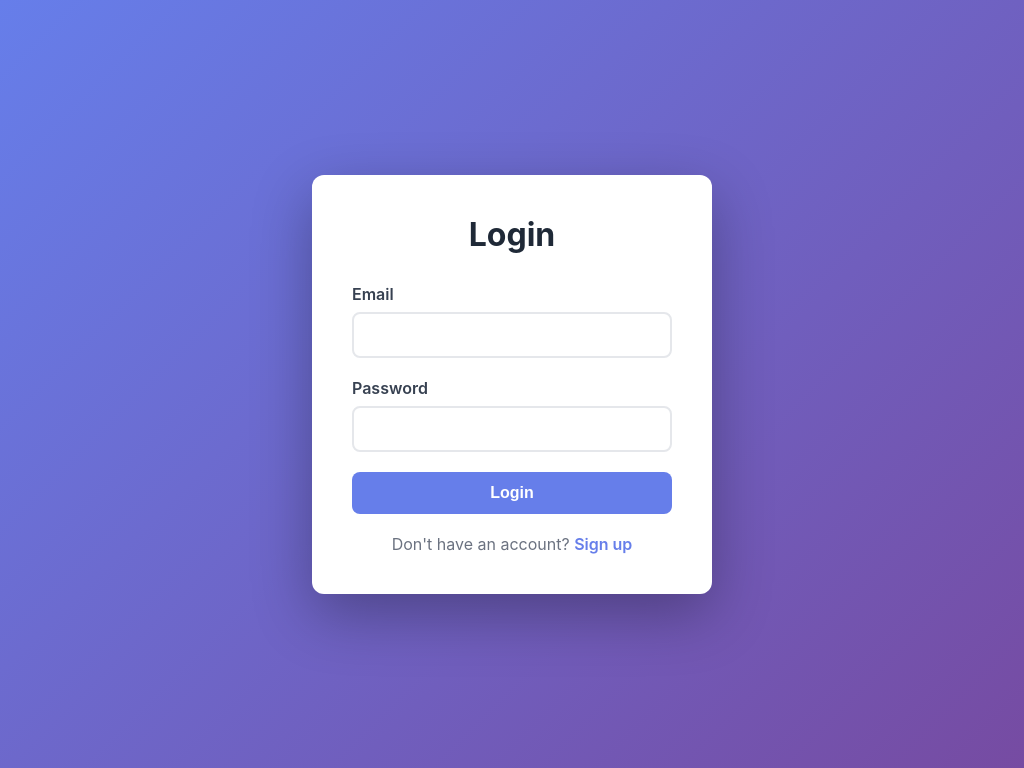
it: Login Component › displays error message on failed login
The image size is (1024, 768).
Type "test@example.com" into the field.
click(512, 334); type("test@example.com")  # box [352,312,672,358]
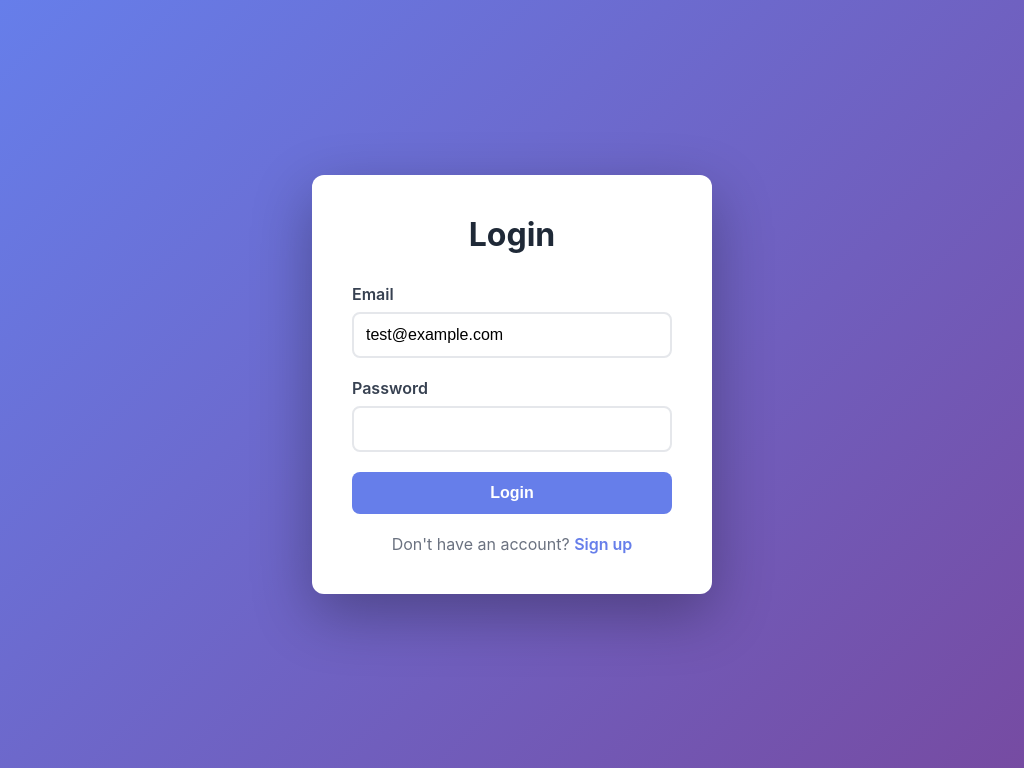
Type "wrong" into the password field.
click(512, 428); type("wrong")  # box [352,406,672,452]
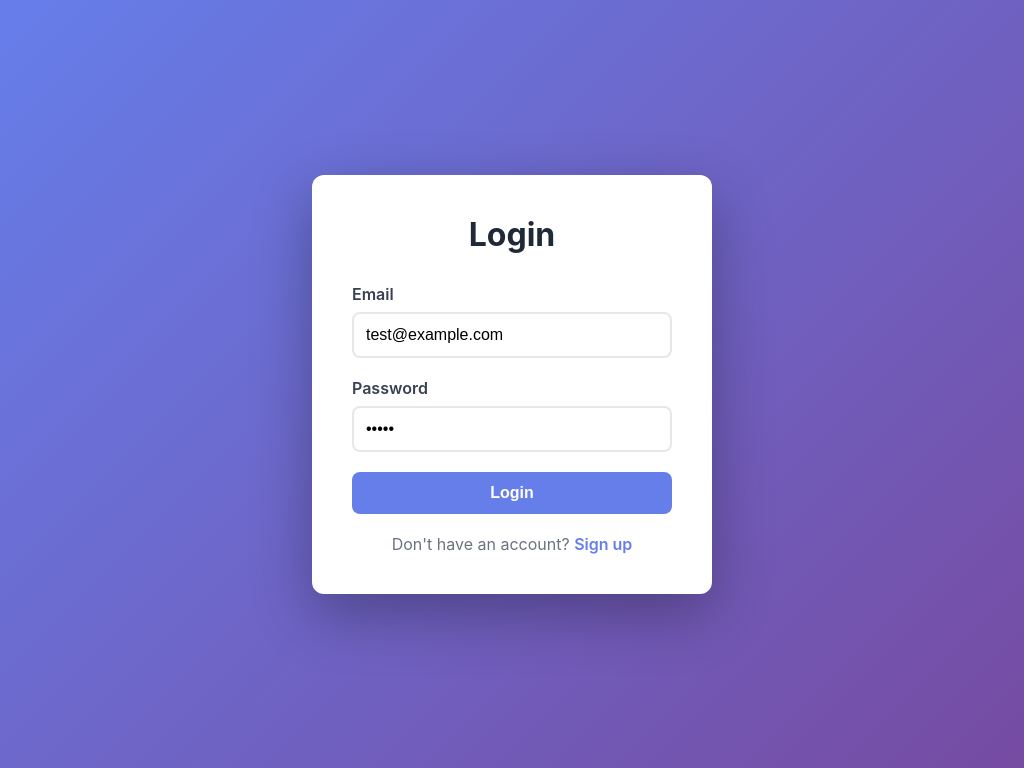
Click the button "Login".
click(512, 492)  # box [352,472,672,514]
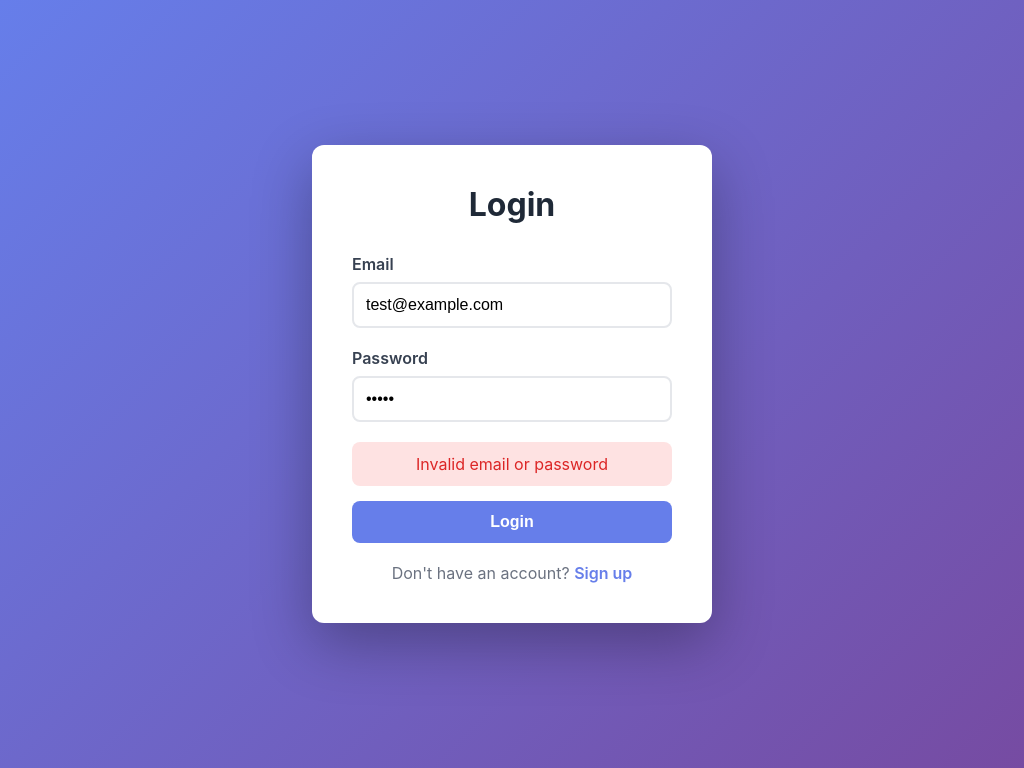
Check: the text "Invalid email or password" is shown, box [352,442,672,486]
